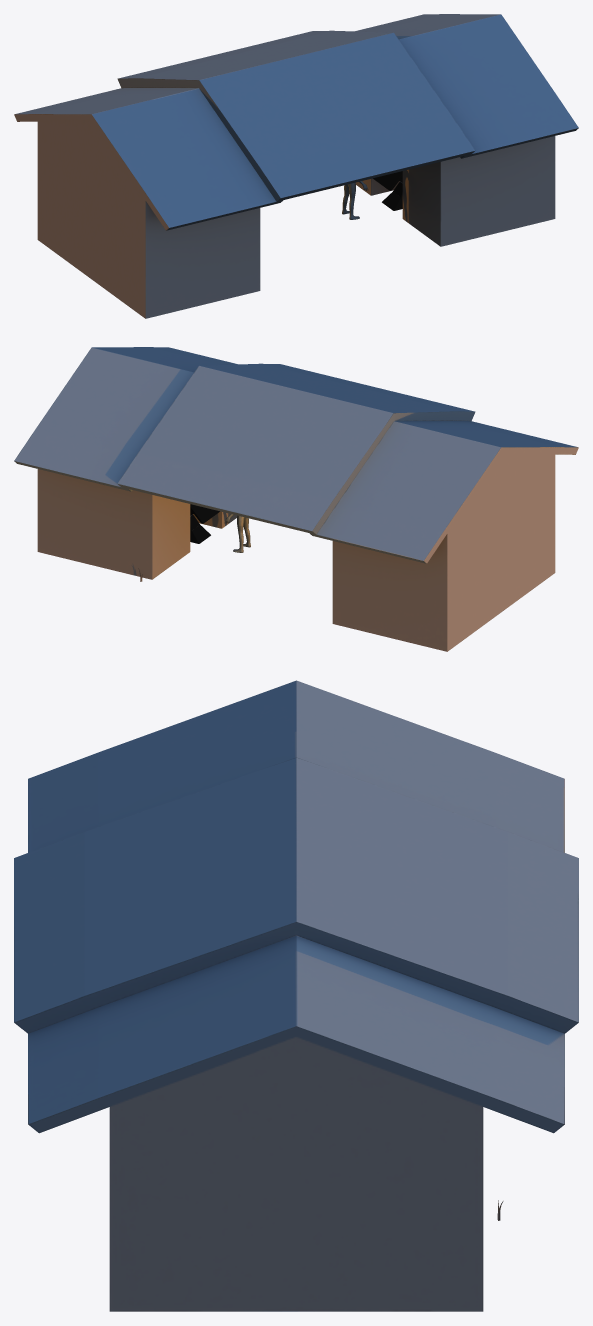
The model's file is entrance.glb.
3 views of the same model, one above another, from view 1: azimuth 30°, elevation 25°; view 2: azimuth 150°, elevation 25°; view 3: azimuth 270°, elevation 25° (orthographic). The views are drawn at different scales.
Visible parts, largest first — view 1: Cube.001; view 2: Cube.001; view 3: Cube.001.
Boxes of the visible parts, x1,y1,x2,y2 form: Cube.001: [14, 14, 578, 318]; Cube.001: [14, 347, 578, 651]; Cube.001: [14, 680, 578, 1311].
Bounding box in the file's own units: 15.94 × 6.43 × 11.01.
Materials: 1 (1 with a texture image).
